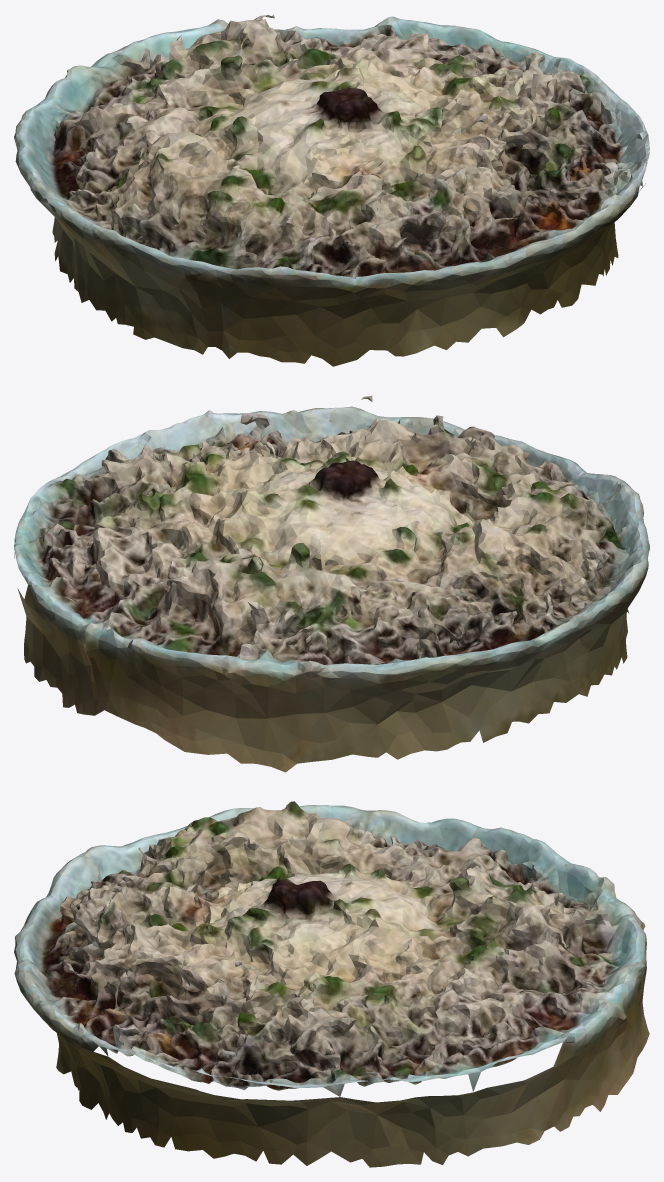
File: murgmusallam-resized.glb
The picture shows the model from 3 angles, top to bottom: view 1: azimuth 30°, elevation 25°; view 2: azimuth 150°, elevation 25°; view 3: azimuth 270°, elevation 25°; orthographic projection.
Bounding box in the file's own units: 0.3065 × 0.0877 × 0.3021.
Materials: 1 (1 with a texture image).
